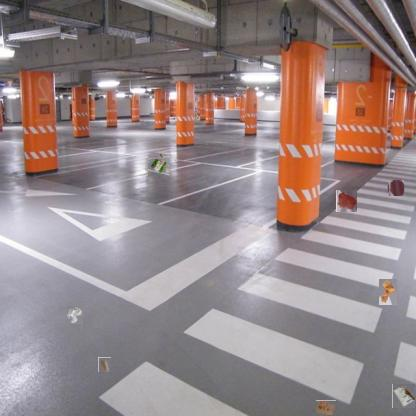dirty: (392, 384, 415, 408), (148, 152, 170, 176), (379, 279, 397, 305), (316, 400, 336, 415), (67, 306, 83, 324), (98, 357, 111, 372)
liquid: (336, 191, 358, 212), (388, 180, 404, 196)
